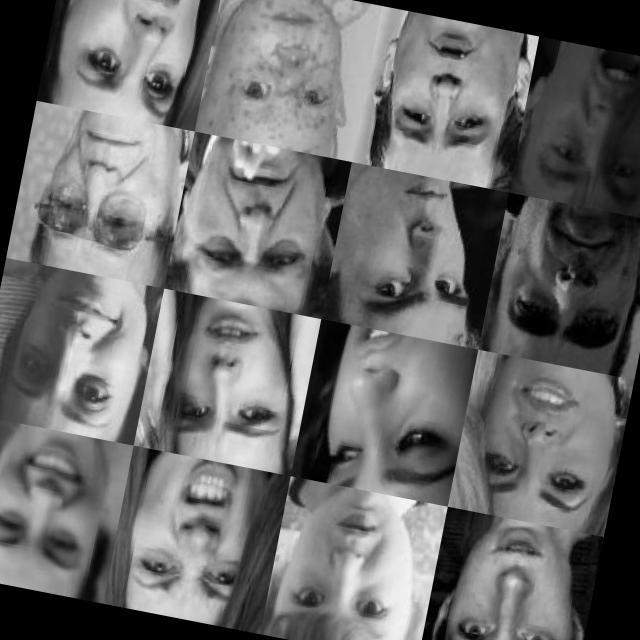angry: (342, 168, 492, 343), (180, 141, 333, 305), (125, 452, 272, 618), (271, 491, 426, 640), (520, 39, 640, 222)
fear: (158, 301, 308, 465)
happy: (0, 269, 155, 443), (0, 425, 114, 582)
neutral: (459, 364, 618, 532), (491, 202, 640, 366), (213, 0, 357, 147), (436, 515, 587, 640)
sad: (312, 325, 475, 502), (17, 110, 176, 276), (372, 11, 514, 171), (61, 0, 205, 129)
